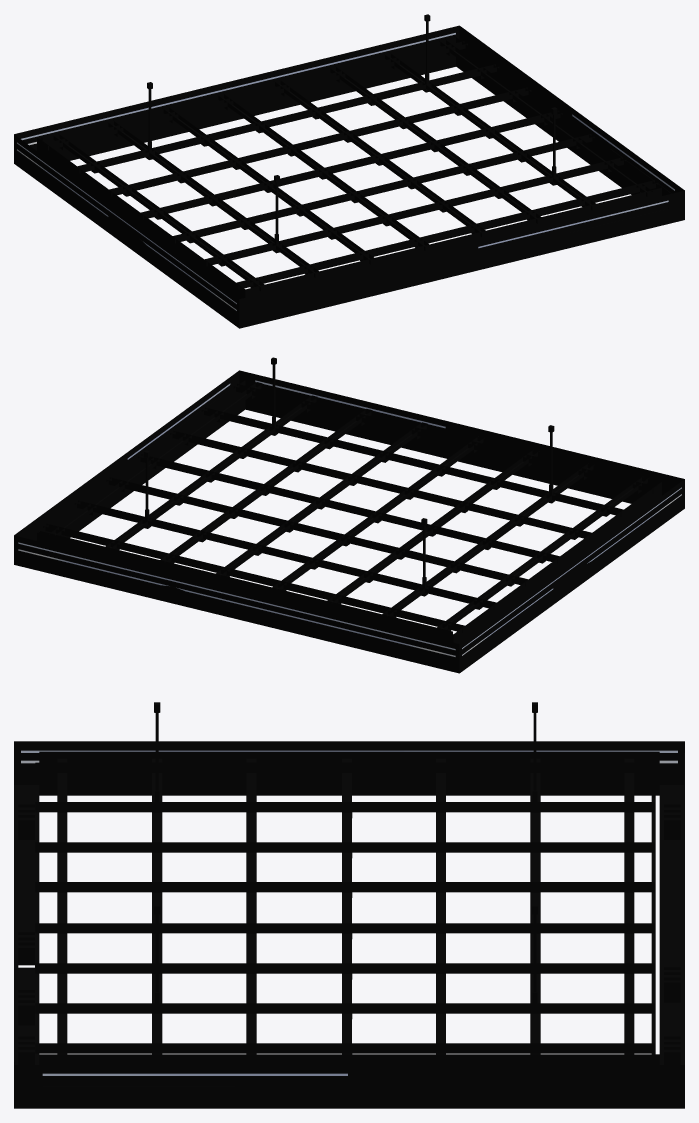
The model's file is Techo.fbx.
The picture shows the model from 3 angles, top to bottom: view 1: azimuth 30°, elevation 25°; view 2: azimuth 150°, elevation 25°; view 3: azimuth 270°, elevation 25°; orthographic projection. The views are drawn at different scales.
Visible parts, largest first — view 1: ceiling_spots1; view 2: ceiling_spots1; view 3: ceiling_spots1.
Part boxes in pixels (x1,y1,x2,y2): ceiling_spots1: (14,14,684,328); ceiling_spots1: (14,357,684,673); ceiling_spots1: (14,702,684,1108).
Bounding box in the file's own units: 10.19 × 2.11 × 8.92.
4 materials, 2 textured.
